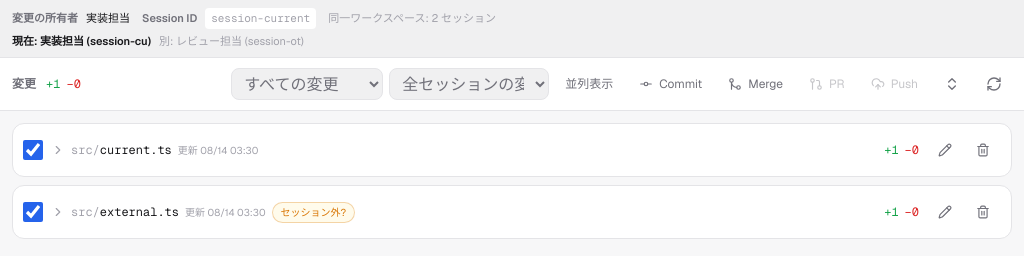
Test: DiffPane directory race › shows the current session identity and filters changes by session ownership
Expected: the text "実装担当" is shown, [86, 10, 130, 26]
Expected: the text "session-current" is shown, [205, 8, 316, 28]
Select "別セッション・未特定" in the dropdown named "表示するセッションの変更": (469, 84) [389, 68, 549, 100]
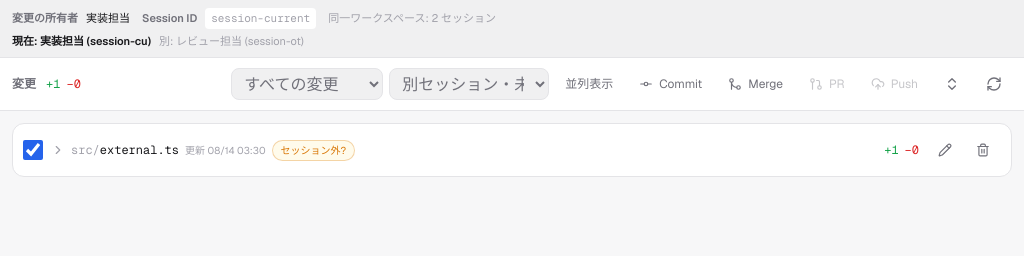
Expected: the text "external.ts" is shown, [100, 142, 179, 158]
Expected: the button "current.ts" is gone
